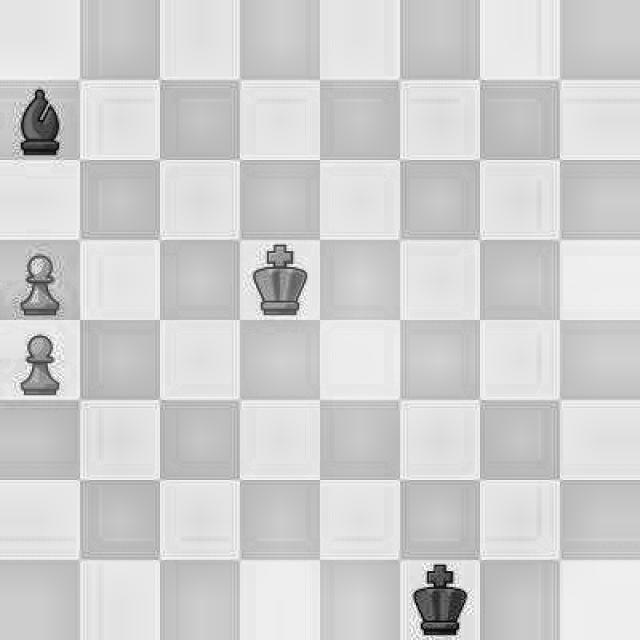black bishop: (12, 84, 69, 156)
black king: (408, 568, 471, 636)
white king: (241, 240, 313, 316)
white pawn: (11, 326, 73, 397), (13, 254, 68, 318)
